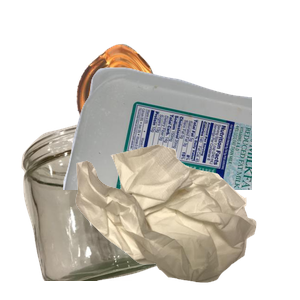glass: (19, 120, 184, 300)
metal: (74, 41, 229, 181)
plastic: (60, 65, 300, 245)
trash: (73, 142, 300, 300)
